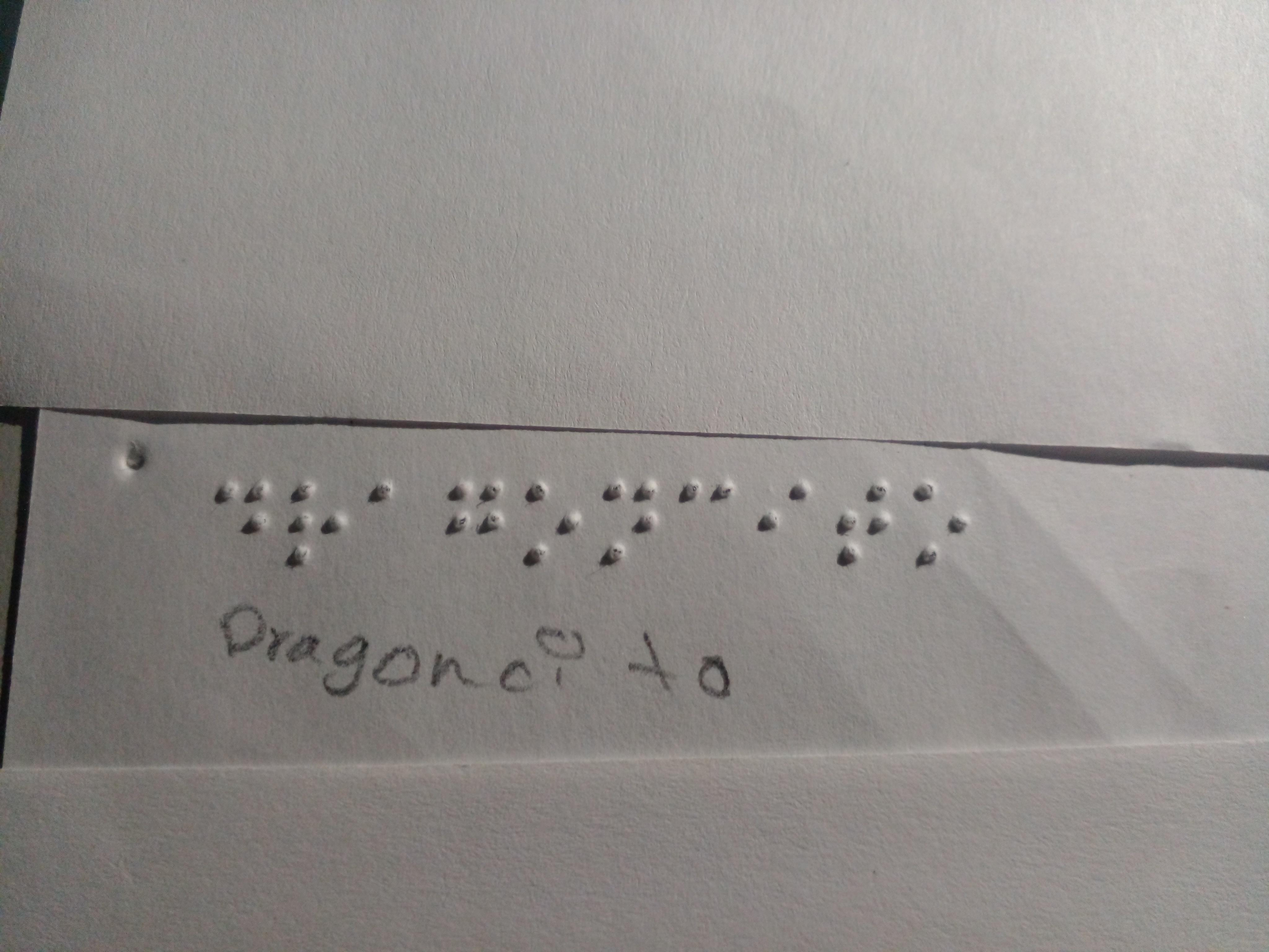a: (356, 476, 411, 513)
c: (756, 466, 818, 538), (675, 469, 747, 519)
d: (200, 465, 280, 547)
g: (435, 471, 514, 545)
n: (595, 473, 665, 570)
o: (906, 469, 974, 578), (522, 477, 586, 569)
r: (291, 474, 352, 581)
t: (829, 474, 900, 567)
